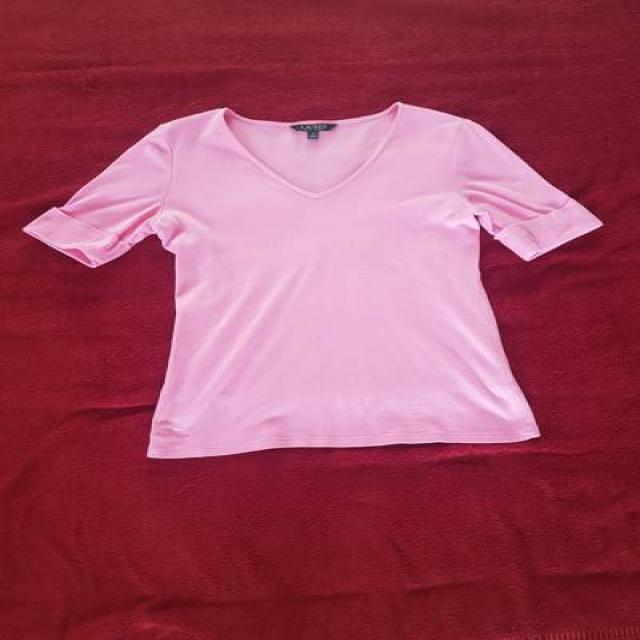Clothes -Biodegradable-: (21, 102, 602, 456)
